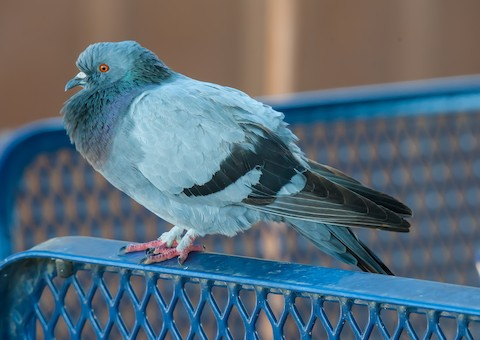pigeon: (56, 36, 416, 278)
